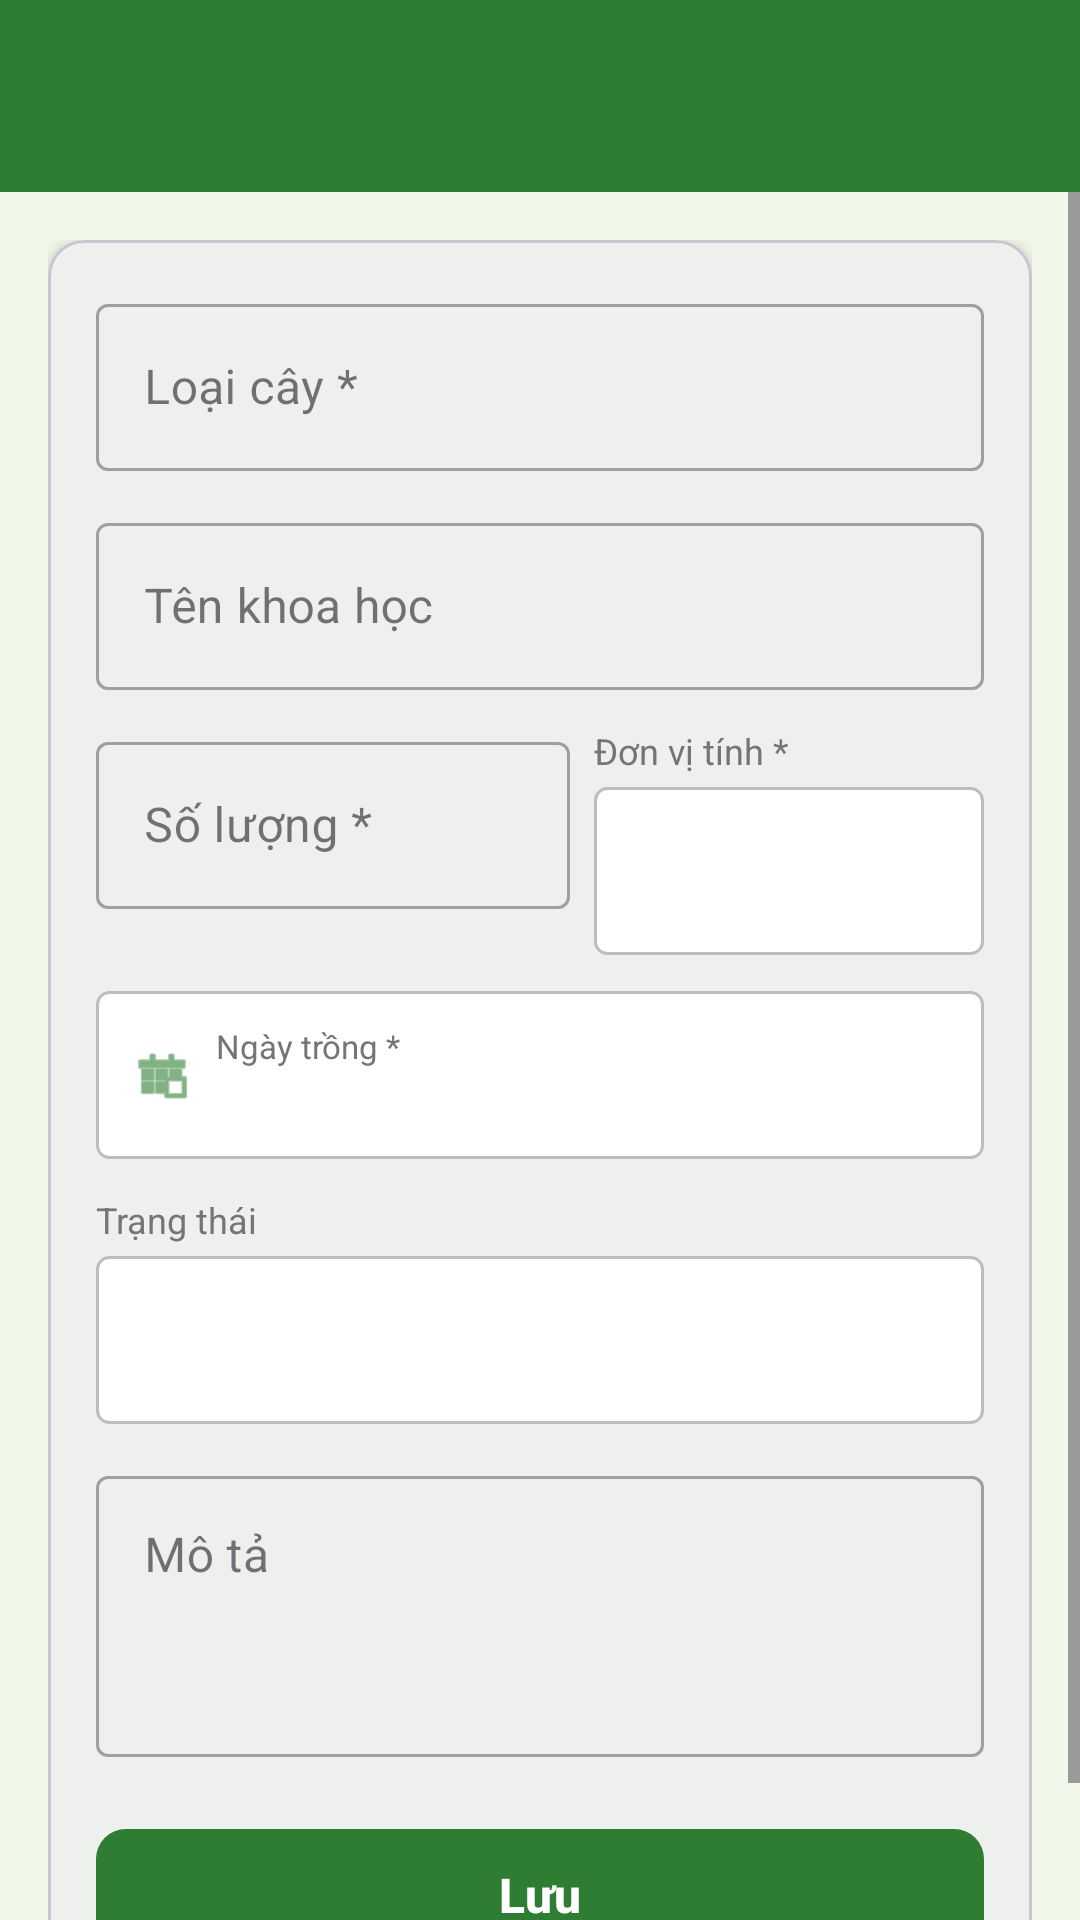

Icon bounding boxes for this 1080×1920 phone screenshot, format [x1, y1, x2, y2]:
today: [138, 1053, 187, 1099]
